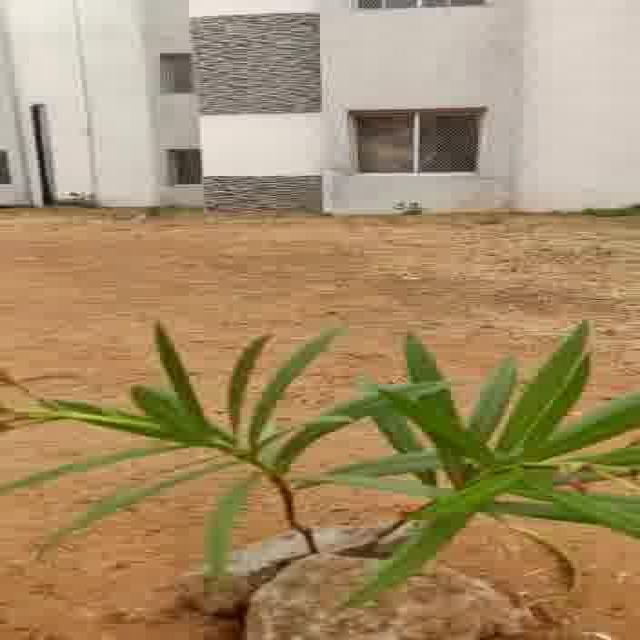Oleander: (35, 349, 640, 559)
